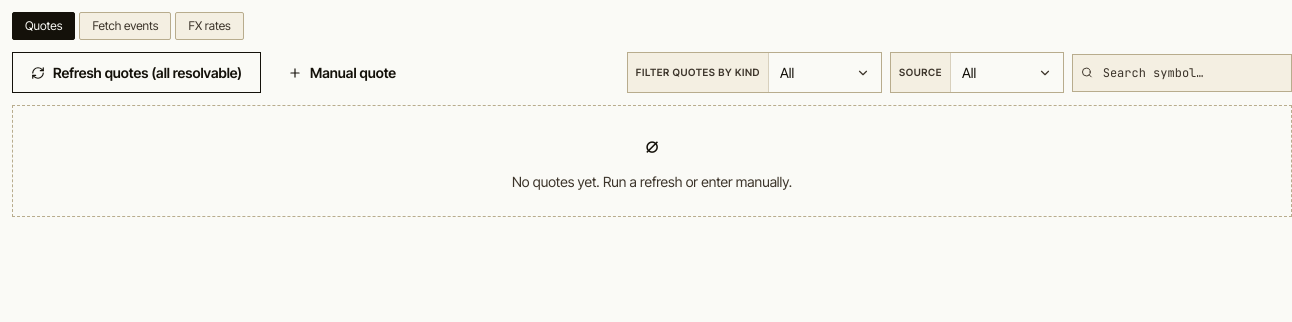
InstrumentsMarketData sub-tab switching › switches to FX rates sub-tab
What coordinates should you click on to do the following:
click the tab "FX rates"
I would click on:
 (210, 26)
Its box is [175,12,244,40].
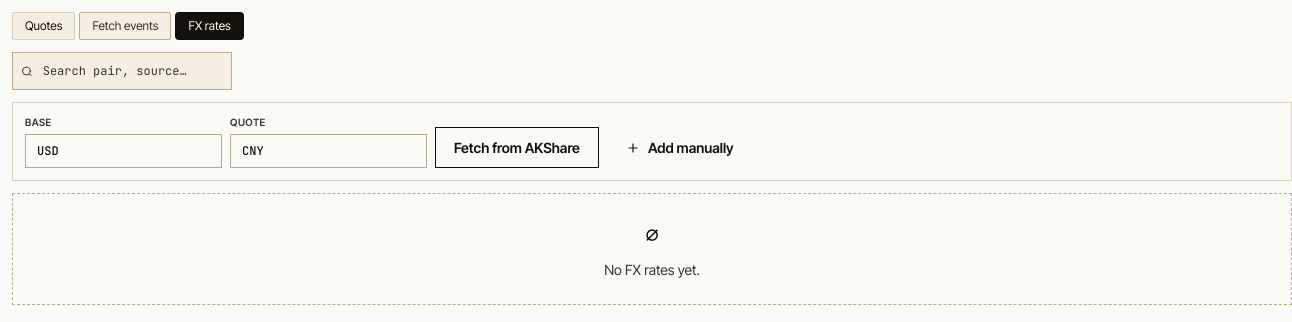
Now the form named "fetch fx rate from akshare" is shown, box [12,102,1291,181]
